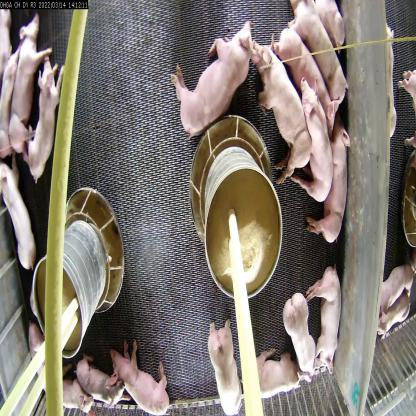Pig: (164, 21, 255, 141), (258, 34, 310, 176), (292, 0, 350, 117), (276, 22, 334, 128), (26, 53, 72, 184), (5, 7, 45, 153), (303, 136, 355, 245), (297, 67, 334, 209), (110, 330, 171, 416), (305, 256, 343, 383), (205, 317, 243, 415), (0, 161, 30, 277), (70, 354, 126, 416), (282, 286, 317, 382), (248, 348, 308, 397)
